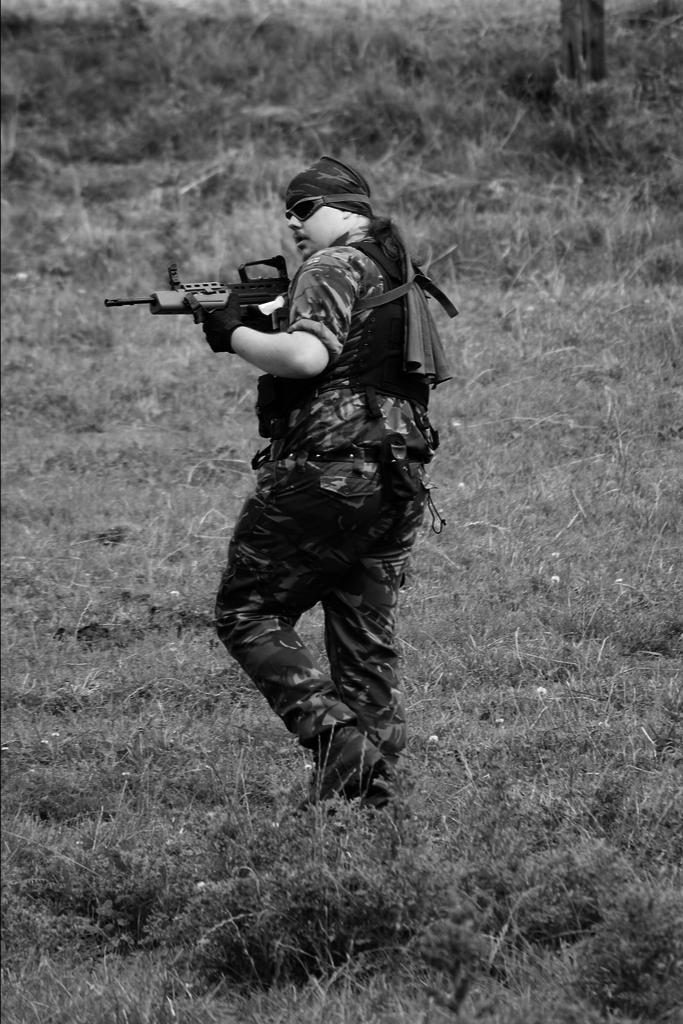gun: (105, 258, 288, 348)
